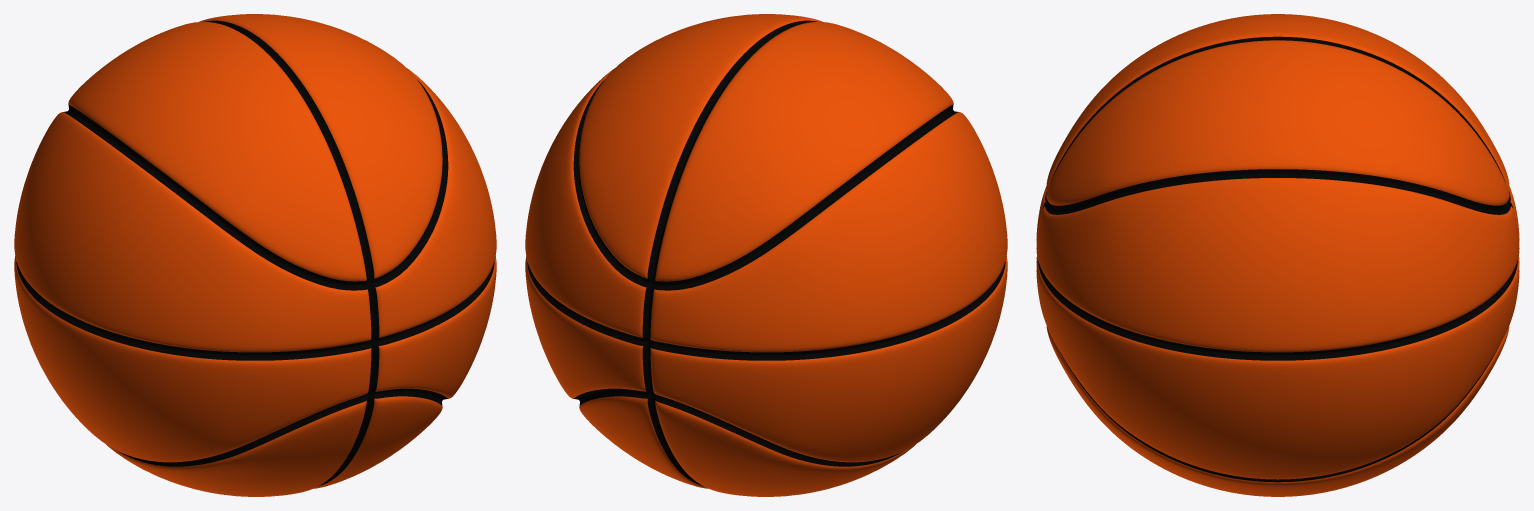
The model's file is basketball.glb.
The picture shows the model from 3 angles, left to right: view 1: azimuth 30°, elevation 25°; view 2: azimuth 150°, elevation 25°; view 3: azimuth 270°, elevation 25°; orthographic projection.
Parts seen in each view (by area): view 1: Cube; view 2: Cube; view 3: Cube.
Boxes of the visible parts, box(x1,y1,x2,y2) form: Cube: box(14, 14, 496, 496); Cube: box(525, 14, 1007, 496); Cube: box(1036, 14, 1519, 496).
Bounding box in the file's own units: 1.13 × 1.13 × 1.13.
